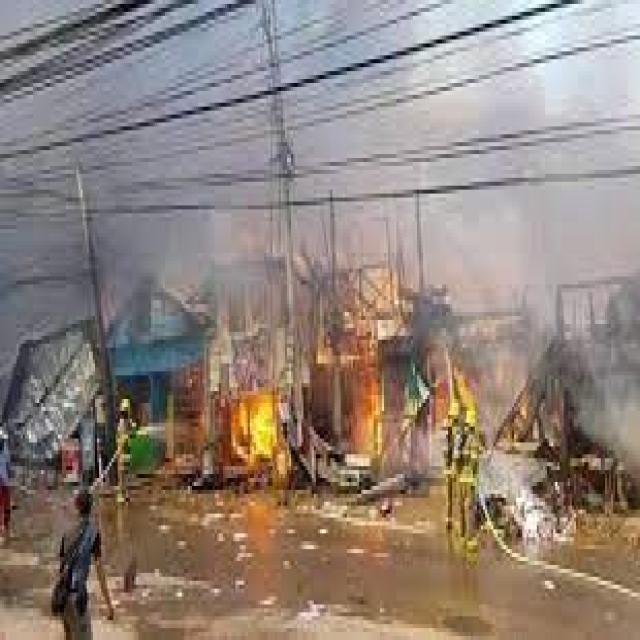Fire: (332, 314, 393, 468), (220, 372, 296, 484)
